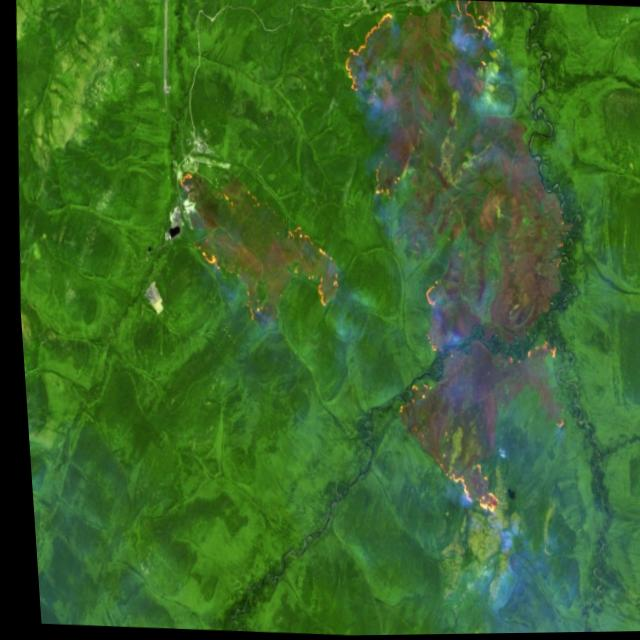fire: (314, 0, 614, 527), (158, 152, 345, 363)
